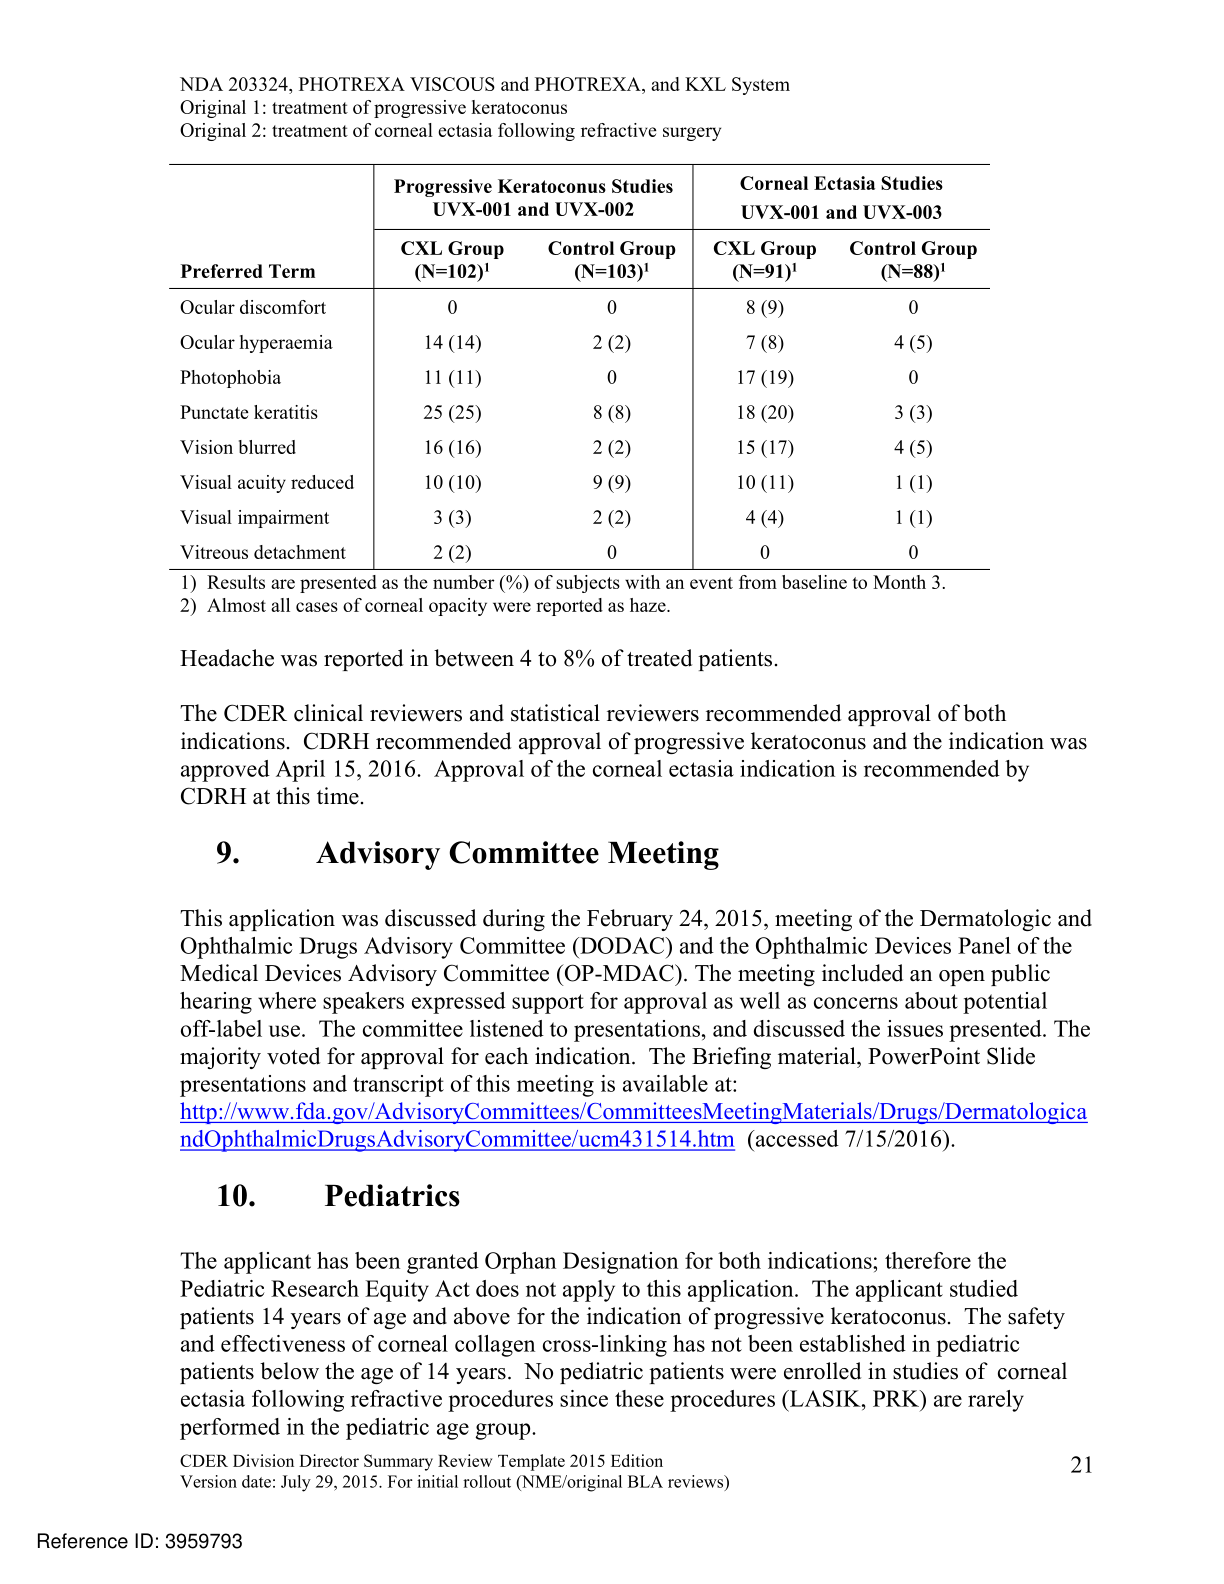partial_lined_merged_cells: (167, 162, 993, 571)
